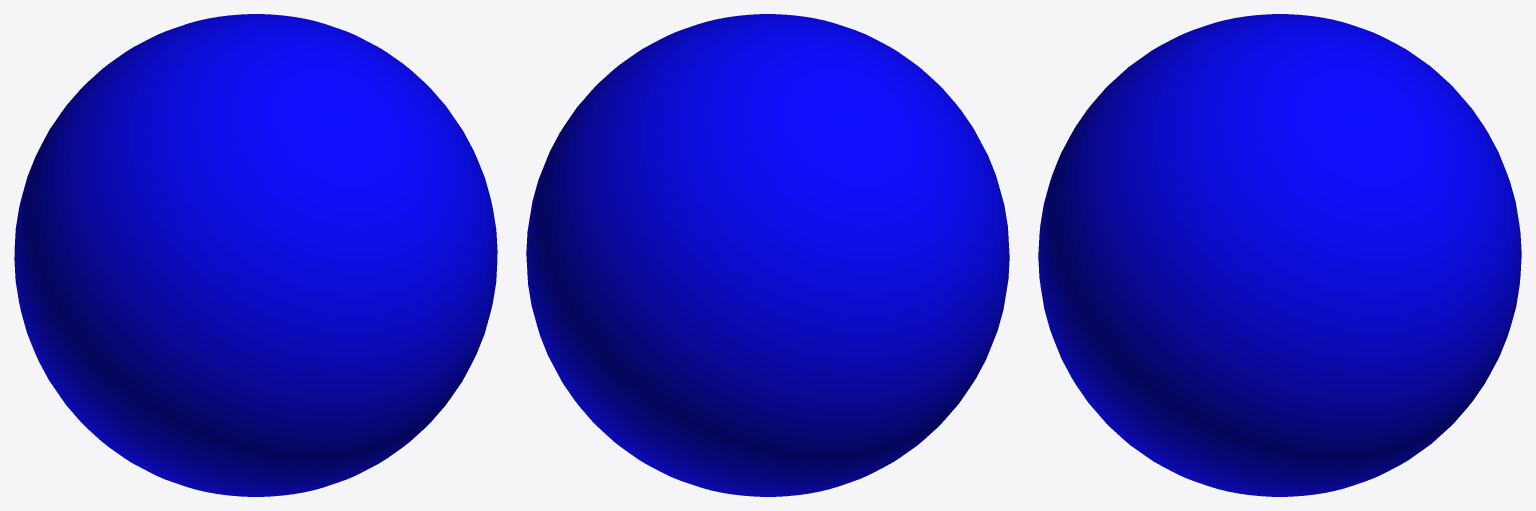
The model's file is carpaint.gltf.
3 renders of one model, left to right at view 1: azimuth 30°, elevation 25°; view 2: azimuth 150°, elevation 25°; view 3: azimuth 270°, elevation 25°, orthographic.
Size of the model in its own units: 160 by 160 by 160.
